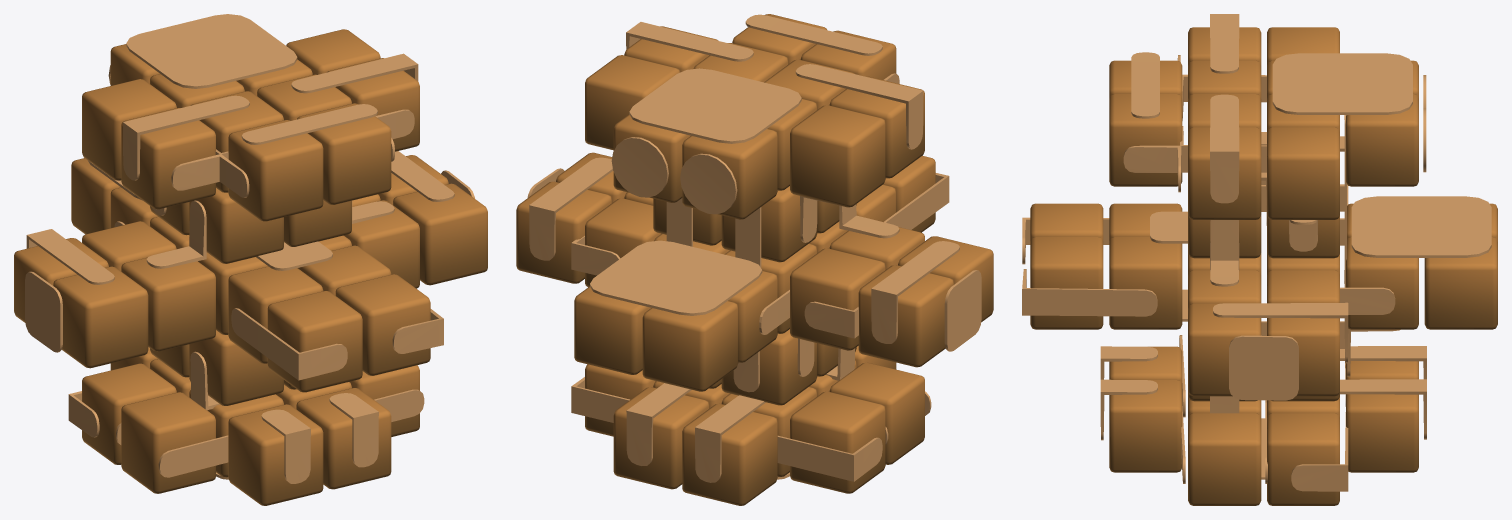
File: level_130.fbx
3 views of the same model, side by side, from view 1: azimuth 30°, elevation 25°; view 2: azimuth 150°, elevation 25°; view 3: azimuth 270°, elevation 25° (orthographic).
Visible parts, largest first — view 1: Link, Cube_L1_8.006, Cube_L1_8.025, Cube_L1_8.012, Cube_L1_8.005, Cube_L1_8.024, Cube_L1_8.002, Cube_L1_8.019, Cube_L1_8.022, Cube_L1_8.027, Cube_L1_8.013, Cube_L1_8.047 (+47 smaller); view 2: Link, Link_22, Cube_L1_8.047, Cube_L1_8.020, Cube_L1_8.030, Cube_L1_8.046, Cube_L1_8.039, Cube_L1_8.035, Cube_L1_8.023, Cube_L1_8.012, Cube_L1_8.051, Cube_L1_8.032 (+48 smaller); view 3: Link_22, Link, Cube_L1_8.016, Cube_L1_8.051, Cube_L1_8.026, Cube_L1_8.032, Cube_L1_8.050, Cube_L1_8.023, Cube_L1_8.021, Cube_L1_8.033, Cube_L1_8.022, Cube_L1_8.017 (+39 smaller).
Part boxes in pixels (x1,y1,x2,y2): Link: (126, 14, 297, 88); Cube_L1_8.006: (53, 266, 148, 368); Cube_L1_8.025: (228, 120, 323, 221); Cube_L1_8.012: (121, 392, 215, 493); Cube_L1_8.005: (393, 183, 487, 285); Cube_L1_8.024: (228, 404, 323, 505); Cube_L1_8.002: (121, 257, 215, 351); Cube_L1_8.019: (267, 291, 362, 392); Cube_L1_8.022: (335, 274, 430, 375); Cube_L1_8.027: (297, 103, 391, 204); Cube_L1_8.013: (121, 108, 215, 209); Cube_L1_8.047: (82, 79, 176, 180); Link: (629, 68, 801, 143); Link_22: (590, 240, 762, 315); Cube_L1_8.047: (790, 105, 885, 207); Cube_L1_8.020: (642, 301, 738, 391); Cube_L1_8.030: (682, 403, 777, 505); Cube_L1_8.046: (790, 391, 885, 493); Cube_L1_8.039: (858, 265, 953, 367); Cube_L1_8.035: (790, 248, 885, 350); Cube_L1_8.023: (574, 286, 651, 374); Cube_L1_8.012: (829, 362, 924, 464); Cube_L1_8.051: (585, 55, 680, 150); Cube_L1_8.032: (613, 387, 709, 489); Link_22: (1351, 196, 1491, 257); Link: (1272, 53, 1412, 114); Cube_L1_8.016: (1188, 413, 1261, 505); Cube_L1_8.051: (1267, 127, 1339, 219); Cube_L1_8.026: (1109, 380, 1182, 472); Cube_L1_8.032: (1346, 394, 1418, 472); Cube_L1_8.050: (1267, 413, 1339, 505); Cube_L1_8.023: (1424, 237, 1497, 329); Cube_L1_8.021: (1109, 237, 1182, 329); Cube_L1_8.033: (1346, 94, 1418, 186); Cube_L1_8.022: (1030, 237, 1103, 329); Cube_L1_8.017: (1188, 127, 1261, 219).
Size of the model in its own units: 13.77 by 11.52 by 13.51.
